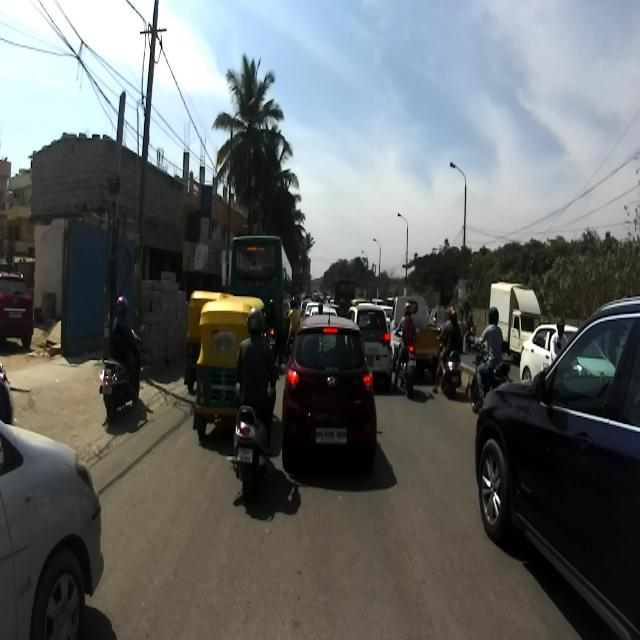autorickshaw: (192, 296, 268, 440), (183, 290, 233, 393)
car: (492, 290, 640, 634), (0, 420, 104, 639), (281, 311, 377, 469), (518, 324, 578, 384)
motorcycle: (466, 339, 510, 417), (393, 324, 418, 399)
scooter: (230, 368, 280, 495), (98, 322, 144, 420), (436, 326, 462, 396)
truck: (483, 274, 546, 396)
